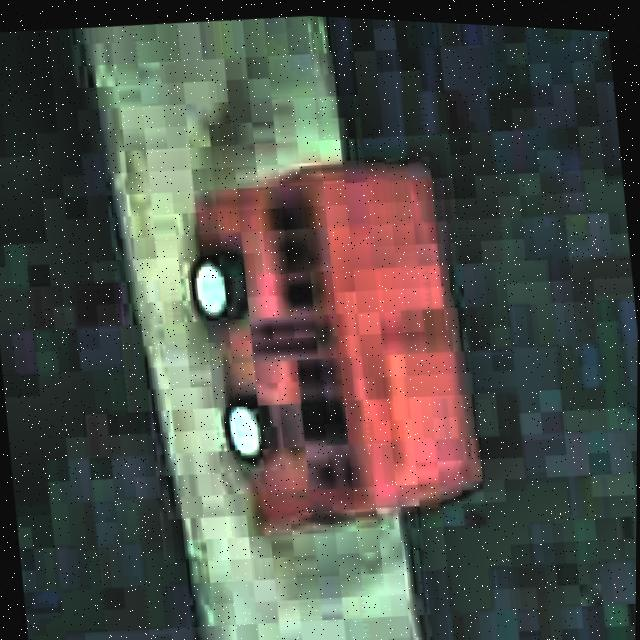bus: (173, 144, 494, 546)
